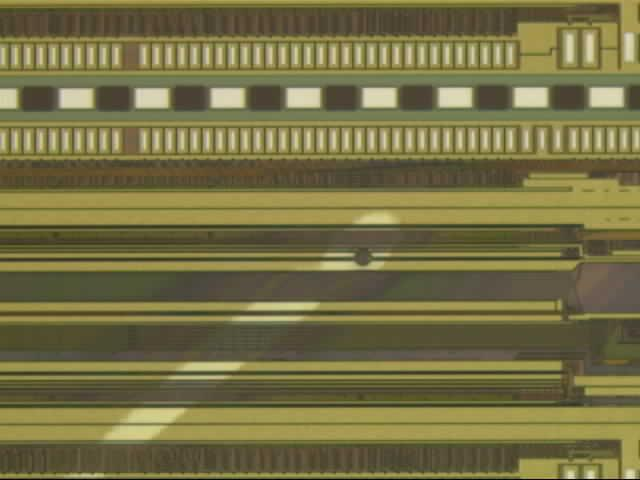BLOCK ETCH: (56, 205, 411, 480)
